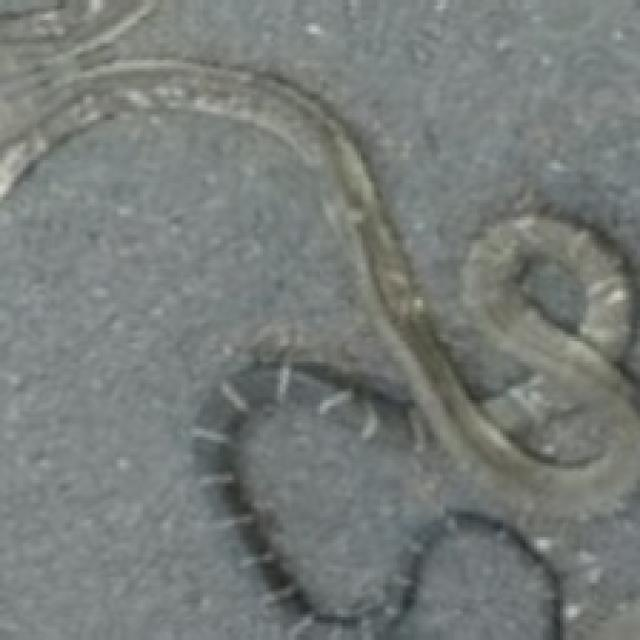king cobra: (0, 0, 637, 637), (383, 437, 637, 637)
